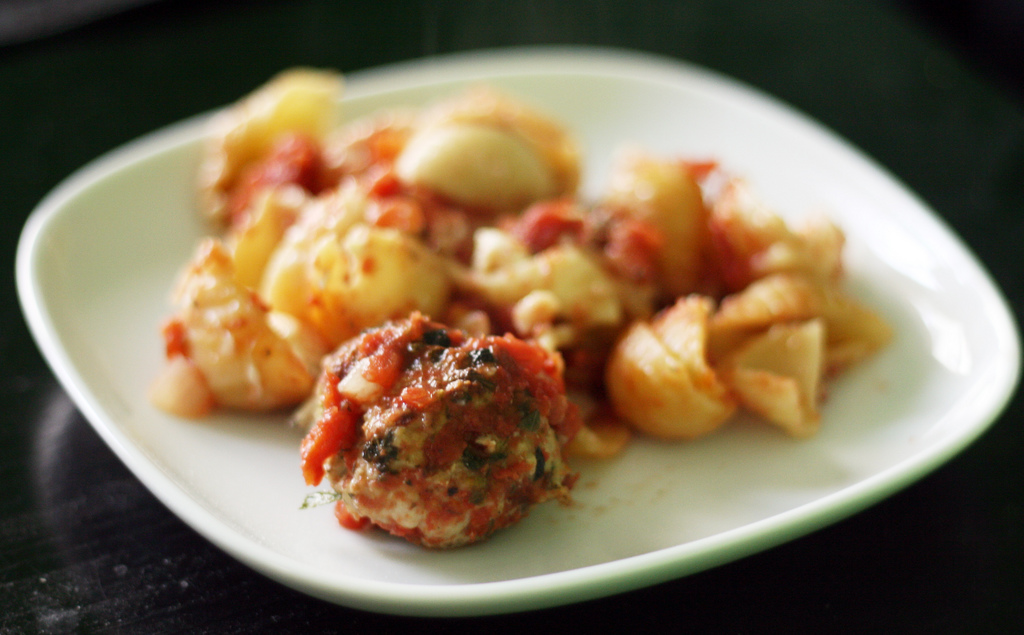meatballs: (347, 330, 570, 535)
